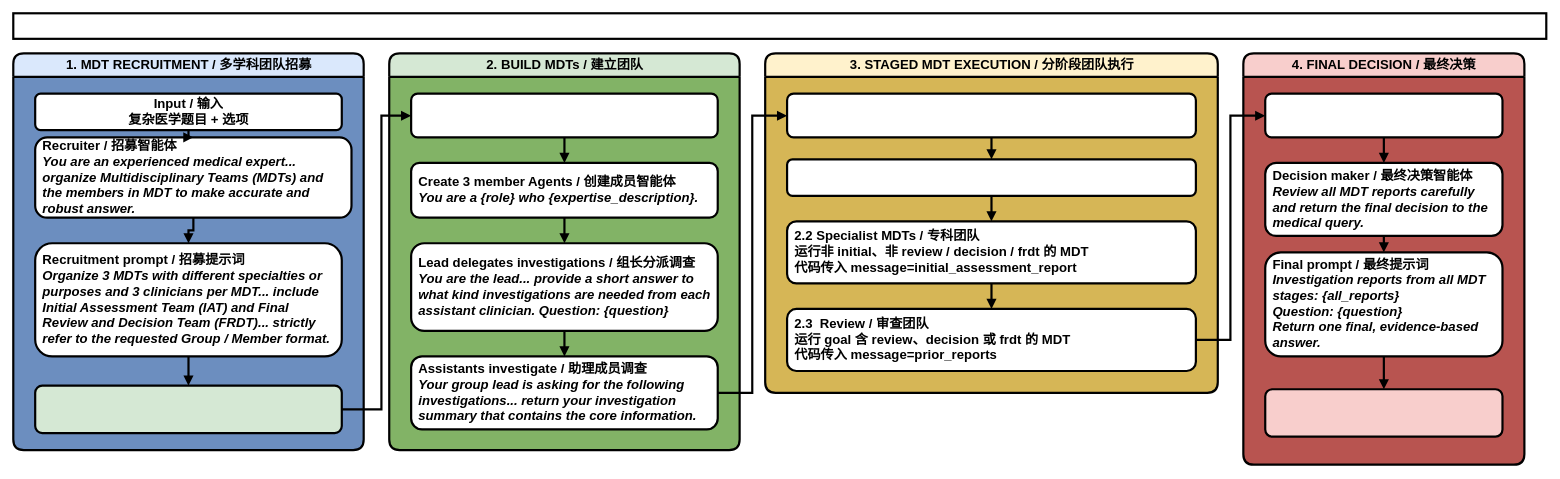
Image size: 1560x479. Some labels were removed from this diagram. The shapes that lost their labels are listed below. From the top down, each one's centre as x and y in pixels, then its label:
the point at 779,26: MDAgents — Advanced / 高难度题目处理流程
the point at 564,115: Create Group instance for every parsed MDT 为每个 MDT 创建 Group 对象
the point at 991,115: 2.1 Initial Assessment / 初始评估 运行 goal 含 initial 或 iap 的 MDT
the point at 1383,115: Combine reports / 汇总报告 initial + specialist + final review
the point at 991,177: Collect initial_assessment_report 汇总初始评估报告
the point at 188,409: Parse output / 解析输出 Group goal + Members + role + expertise
the point at 1383,412: Output / 输出 final response, temperature = 0.0
